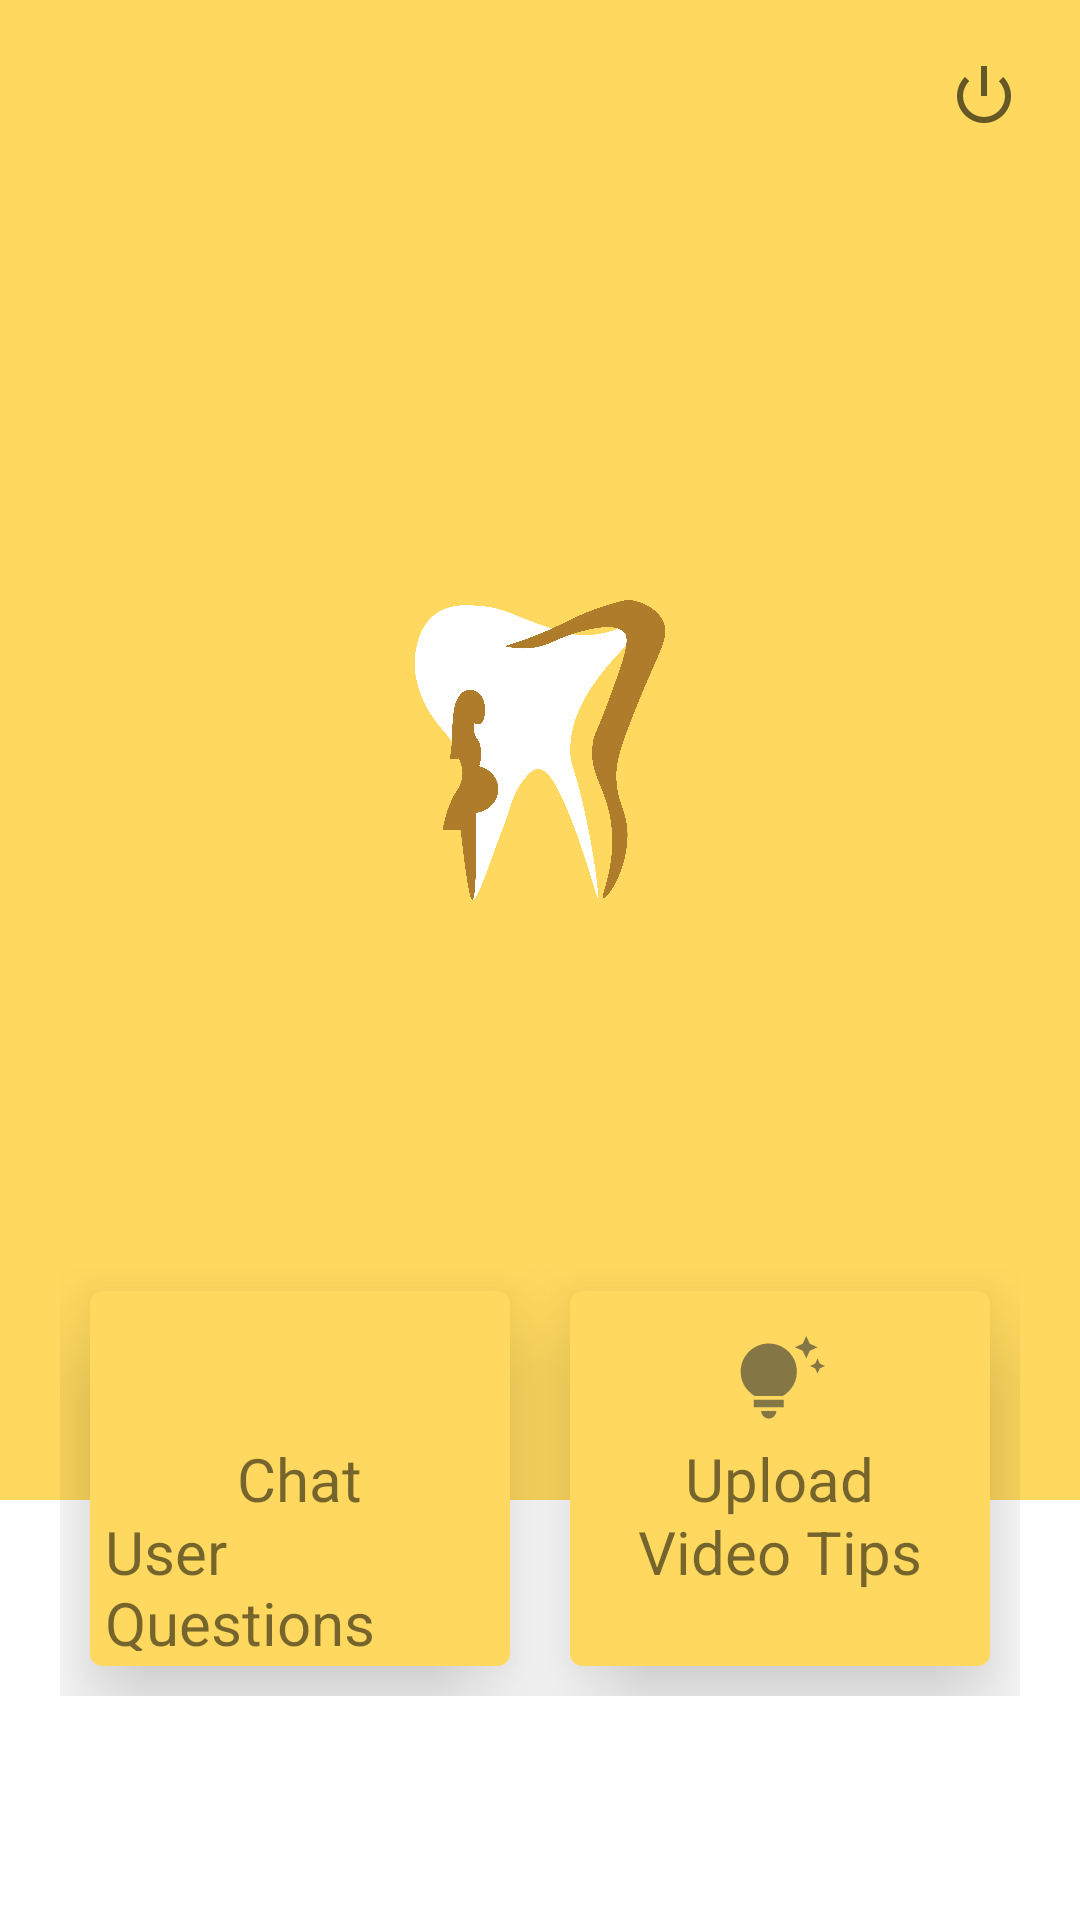

Icons on this 1080×1920 Android screen, each with its box as BBox(x1, y1, x2, y2):
lock power off: BBox(957, 66, 1011, 123)
